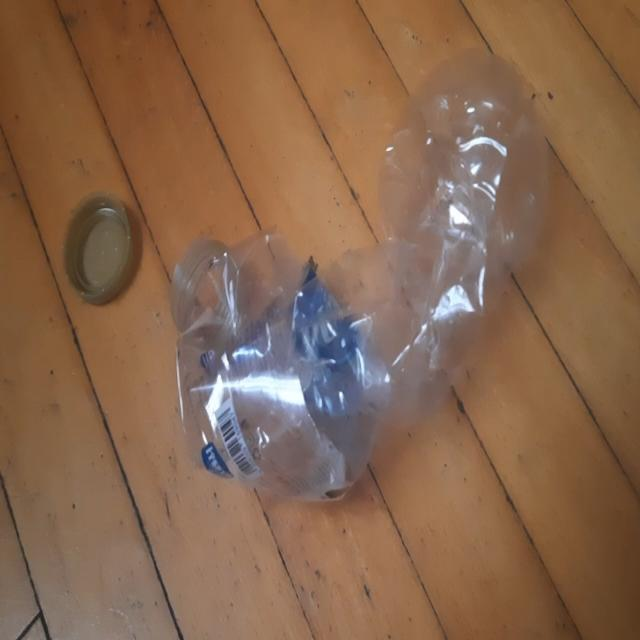Plastic: (172, 47, 548, 501)
